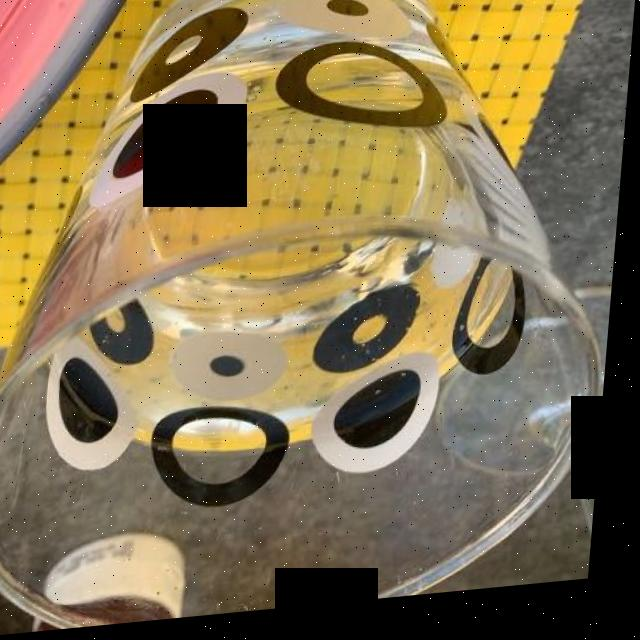water: (46, 0, 527, 467)
